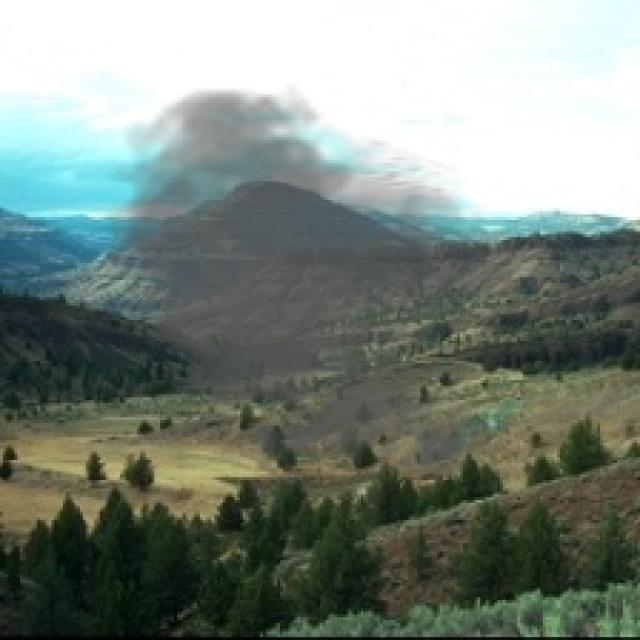Smoke: (89, 80, 512, 486)
